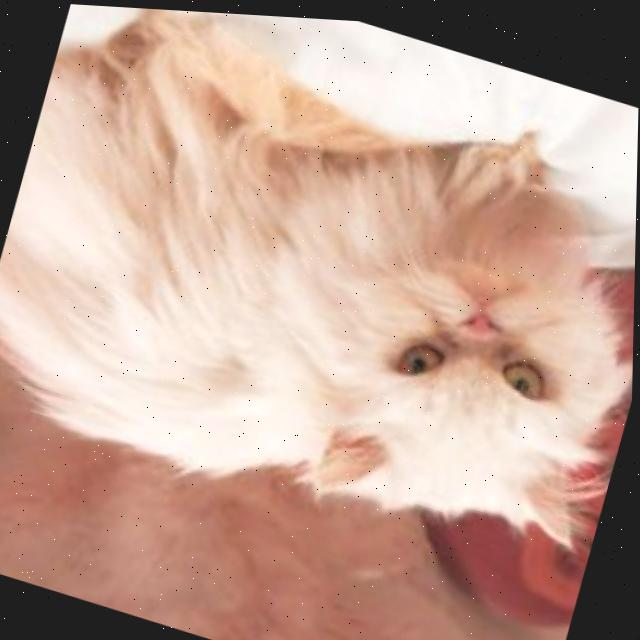Persian: (0, 0, 640, 594)
